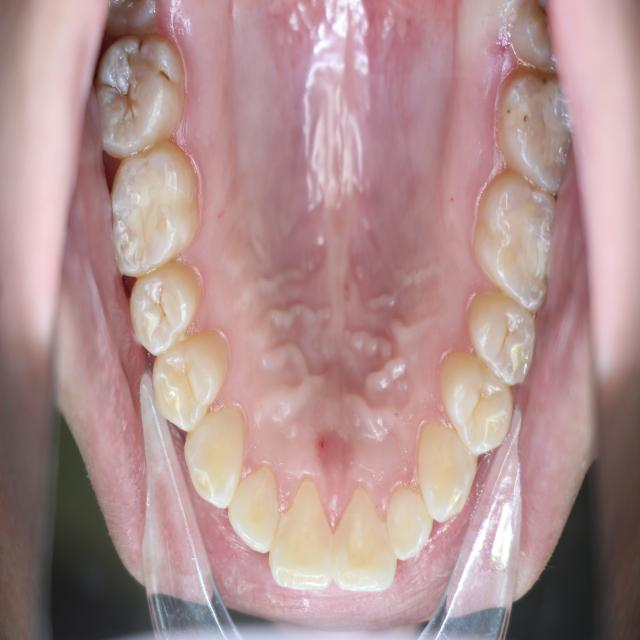tooth: (102, 135, 213, 289), (467, 158, 566, 326), (87, 34, 197, 169), (144, 317, 245, 460), (477, 62, 578, 203), (263, 464, 350, 619), (430, 339, 519, 471), (457, 282, 550, 398), (118, 250, 208, 368), (327, 478, 406, 606), (409, 404, 481, 535), (180, 397, 253, 521), (225, 464, 288, 562), (376, 480, 438, 575), (503, 4, 565, 82), (97, 1, 169, 41)
